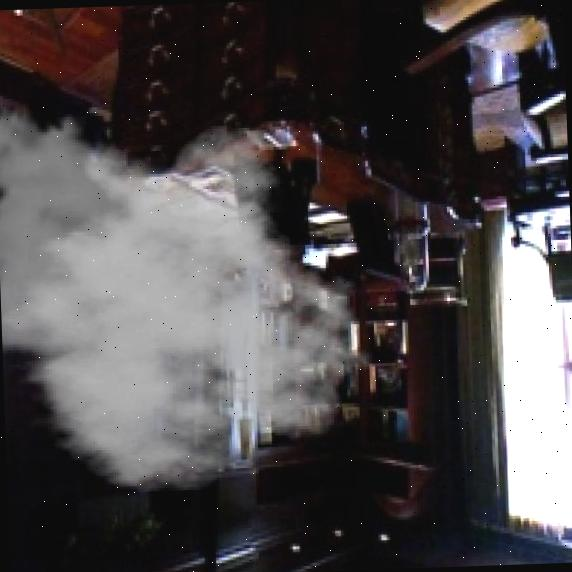smoke: (0, 77, 379, 499)
